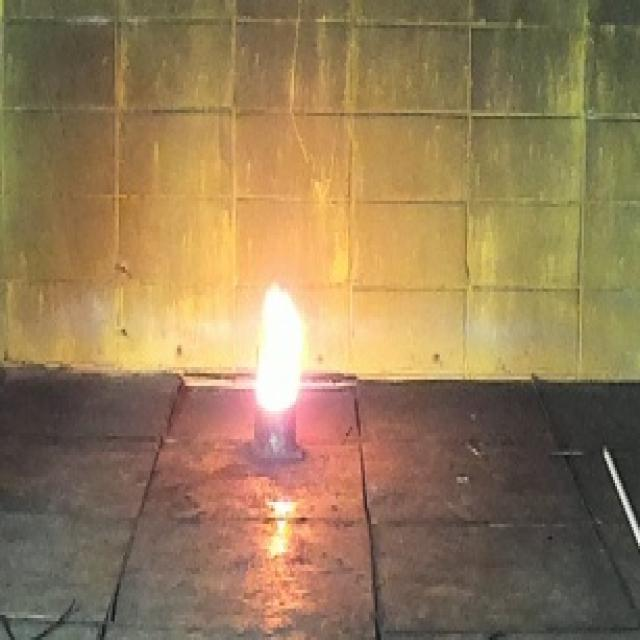Fire: (256, 278, 304, 414)
